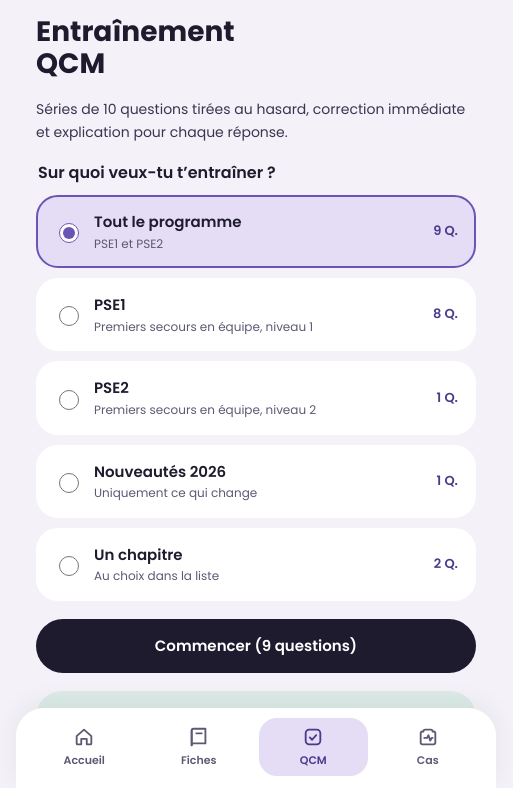
Test: QCM — entraînement › lance une série sur un niveau depuis l’écran QCM
Click the radio button labelled "PSE2 Premiers secours en équipe, niveau 2 1 Q.". click: (69, 400)
box: x1=59 y1=390 x2=79 y2=410
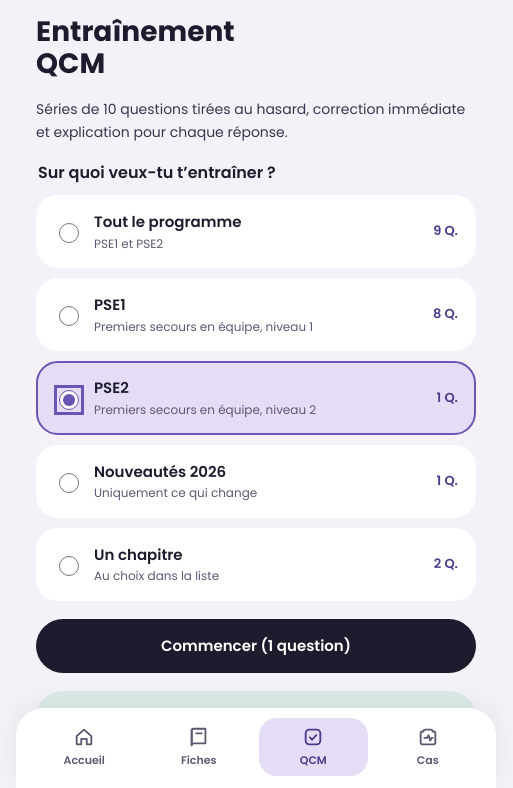
Click the button "Commencer (1 question)". click: (256, 646)
box: x1=36 y1=619 x2=476 y2=673
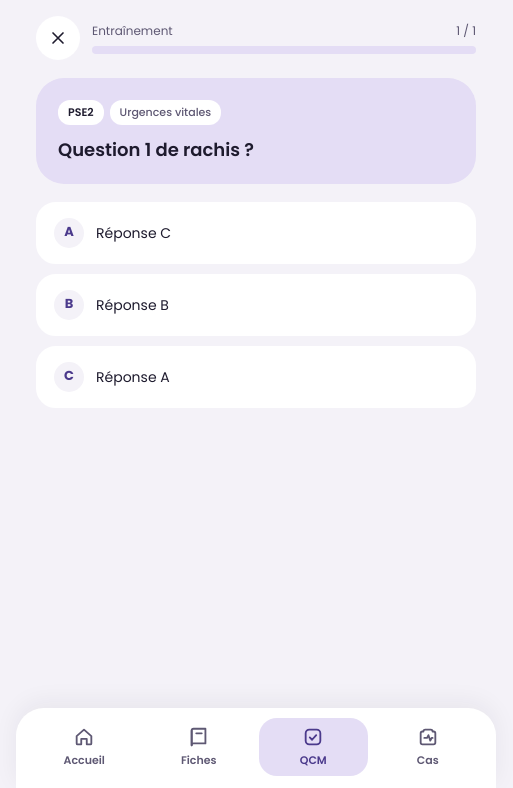
Check: the heading reads "Question 1 de rachis ?", box x1=58 y1=136 x2=254 y2=162
